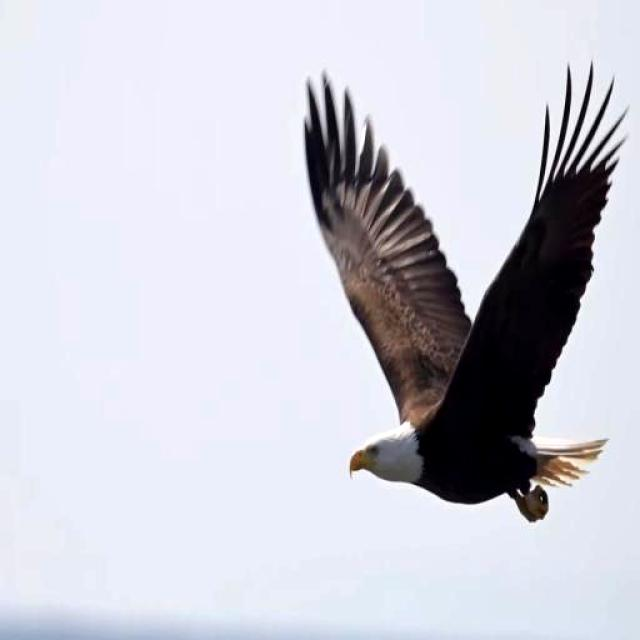airplane: (290, 45, 632, 542)
